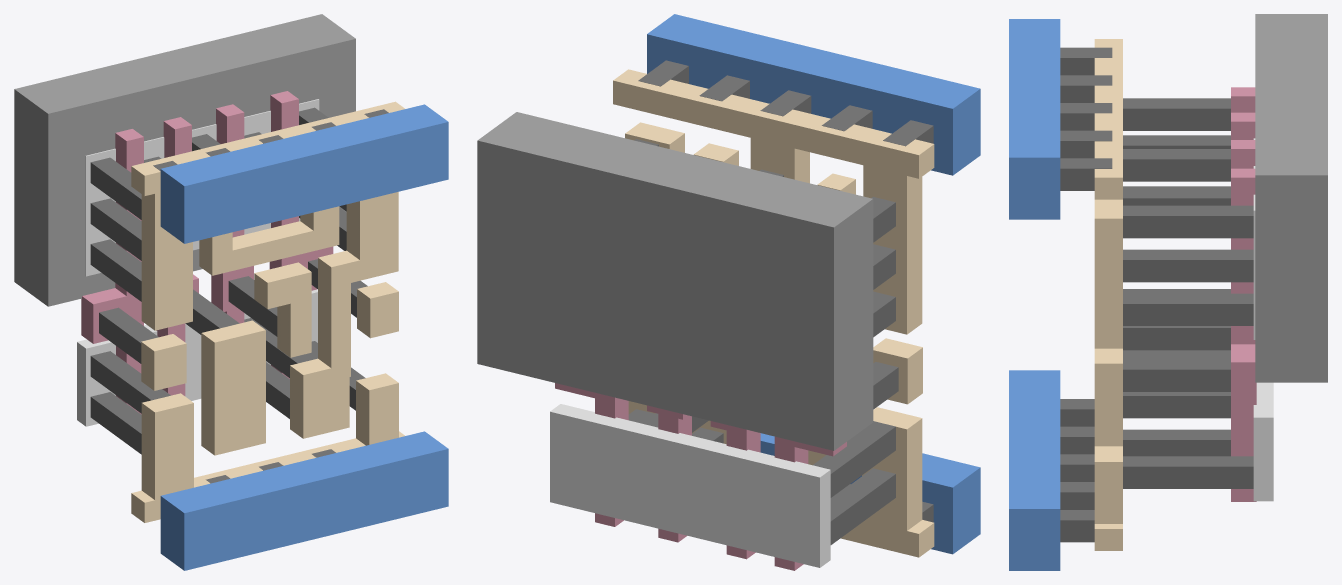
Rendered from sky130_fd_sc_hd__a31oi_1.gds.gltf.
The picture shows the model from 3 angles, left to right: view 1: azimuth 30°, elevation 25°; view 2: azimuth 150°, elevation 25°; view 3: azimuth 270°, elevation 25°; orthographic projection. The views are drawn at different scales.
Visible parts, largest first — view 1: sky130_fd_sc_hd__a31oi_1_li1, sky130_fd_sc_hd__a31oi_1_met1, sky130_fd_sc_hd__a31oi_1_nwell, sky130_fd_sc_hd__a31oi_1_licon, sky130_fd_sc_hd__a31oi_1_poly, sky130_fd_sc_hd__a31oi_1_diff, sky130_fd_sc_hd__a31oi_1_mcon; view 2: sky130_fd_sc_hd__a31oi_1_nwell, sky130_fd_sc_hd__a31oi_1_li1, sky130_fd_sc_hd__a31oi_1_diff, sky130_fd_sc_hd__a31oi_1_met1, sky130_fd_sc_hd__a31oi_1_licon, sky130_fd_sc_hd__a31oi_1_poly, sky130_fd_sc_hd__a31oi_1_mcon; view 3: sky130_fd_sc_hd__a31oi_1_licon, sky130_fd_sc_hd__a31oi_1_nwell, sky130_fd_sc_hd__a31oi_1_met1, sky130_fd_sc_hd__a31oi_1_li1, sky130_fd_sc_hd__a31oi_1_mcon, sky130_fd_sc_hd__a31oi_1_poly, sky130_fd_sc_hd__a31oi_1_diff.
Boxes of the visible parts, x1=… form: sky130_fd_sc_hd__a31oi_1_li1: x1=131, y1=101, x2=404, y2=522; sky130_fd_sc_hd__a31oi_1_met1: x1=160, y1=104, x2=448, y2=570; sky130_fd_sc_hd__a31oi_1_nwell: x1=14, y1=14, x2=355, y2=306; sky130_fd_sc_hd__a31oi_1_licon: x1=90, y1=107, x2=367, y2=454; sky130_fd_sc_hd__a31oi_1_poly: x1=81, y1=91, x2=333, y2=414; sky130_fd_sc_hd__a31oi_1_diff: x1=77, y1=99, x2=319, y2=426; sky130_fd_sc_hd__a31oi_1_mcon: x1=153, y1=109, x2=388, y2=483; sky130_fd_sc_hd__a31oi_1_nwell: x1=477, y1=112, x2=873, y2=450; sky130_fd_sc_hd__a31oi_1_li1: x1=613, y1=69, x2=934, y2=557; sky130_fd_sc_hd__a31oi_1_diff: x1=550, y1=404, x2=830, y2=567; sky130_fd_sc_hd__a31oi_1_met1: x1=647, y1=14, x2=980, y2=554; sky130_fd_sc_hd__a31oi_1_licon: x1=628, y1=139, x2=898, y2=544; sky130_fd_sc_hd__a31oi_1_poly: x1=555, y1=383, x2=846, y2=570; sky130_fd_sc_hd__a31oi_1_mcon: x1=638, y1=60, x2=933, y2=522; sky130_fd_sc_hd__a31oi_1_licon: x1=1123, y1=98, x2=1253, y2=488; sky130_fd_sc_hd__a31oi_1_nwell: x1=1255, y1=14, x2=1327, y2=382; sky130_fd_sc_hd__a31oi_1_met1: x1=1009, y1=19, x2=1060, y2=570; sky130_fd_sc_hd__a31oi_1_li1: x1=1094, y1=39, x2=1122, y2=550; sky130_fd_sc_hd__a31oi_1_mcon: x1=1060, y1=47, x2=1112, y2=542; sky130_fd_sc_hd__a31oi_1_poly: x1=1231, y1=87, x2=1256, y2=501; sky130_fd_sc_hd__a31oi_1_diff: x1=1253, y1=138, x2=1273, y2=501.
Bounding box in the file's own units: 2.68 × 3.2 × 2.24.
